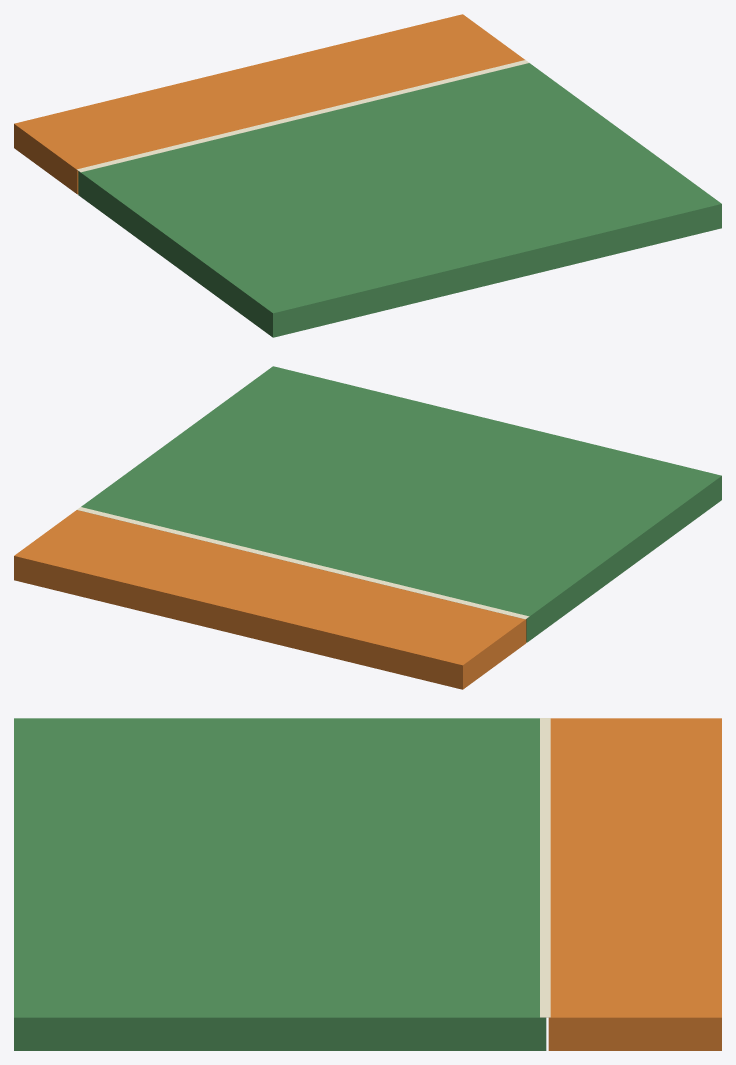
The model's file is floor_court_line.glb.
3 views of the same model, one above another, from view 1: azimuth 30°, elevation 25°; view 2: azimuth 150°, elevation 25°; view 3: azimuth 270°, elevation 25° (orthographic). The views are drawn at different scales.
Parts seen in each view (by area): view 1: Quadra.001, Faixa laranja, Linha esportiva; view 2: Quadra.001, Faixa laranja, Linha esportiva; view 3: Quadra.001, Faixa laranja, Linha esportiva.
Part boxes in pixels (bbox=[...]): Quadra.001: bbox=[78, 63, 721, 337]; Faixa laranja: bbox=[14, 14, 524, 194]; Linha esportiva: bbox=[77, 60, 529, 172]; Quadra.001: bbox=[81, 366, 721, 642]; Faixa laranja: bbox=[14, 510, 526, 689]; Linha esportiva: bbox=[77, 507, 529, 619]; Quadra.001: bbox=[14, 718, 546, 1050]; Faixa laranja: bbox=[548, 718, 721, 1050]; Linha esportiva: bbox=[540, 718, 550, 1017].
Bounding box in the file's own units: 2.5 × 0.1308 × 2.5.
